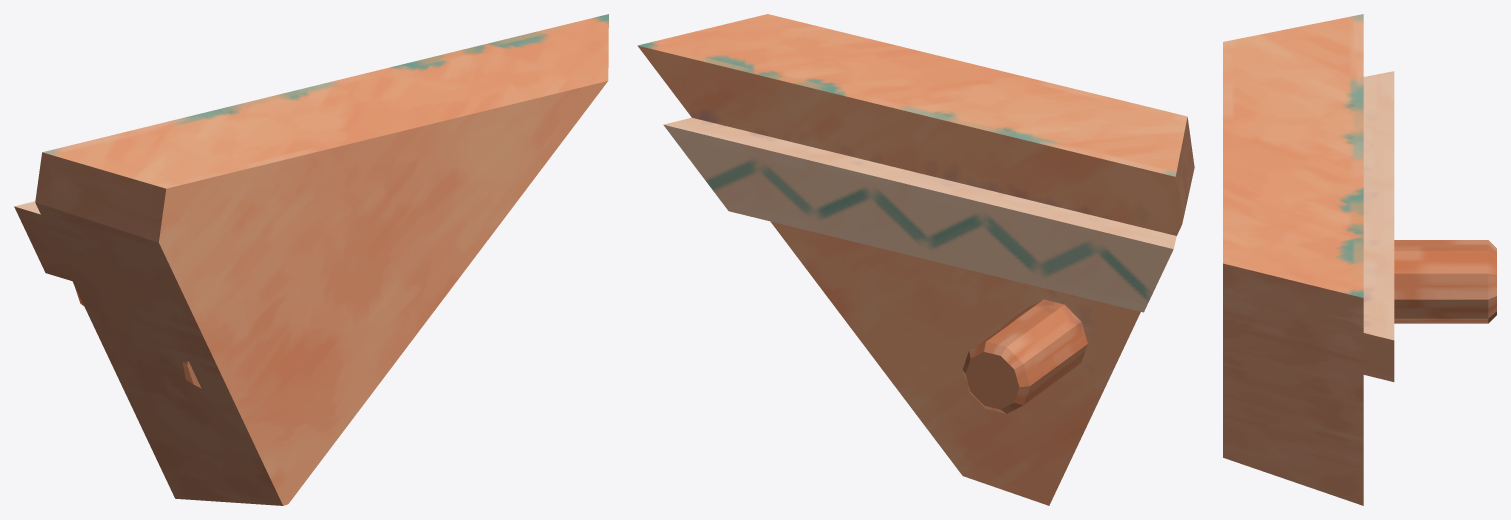
File: wall2_shutter_s09.fbx
3 renders of one model, left to right at view 1: azimuth 30°, elevation 25°; view 2: azimuth 150°, elevation 25°; view 3: azimuth 270°, elevation 25°, orthographic. The views are drawn at different scales.
Parts seen in each view (by area): view 1: wall2_shutter_s09; view 2: wall2_shutter_s09; view 3: wall2_shutter_s09.
Boxes of the visible parts, left/top/right/bottom form: wall2_shutter_s09: left=14, top=14, right=608, bottom=505; wall2_shutter_s09: left=637, top=14, right=1194, bottom=505; wall2_shutter_s09: left=1223, top=14, right=1496, bottom=505.
Size of the model in its own units: 4.9 by 3.06 by 1.95.
